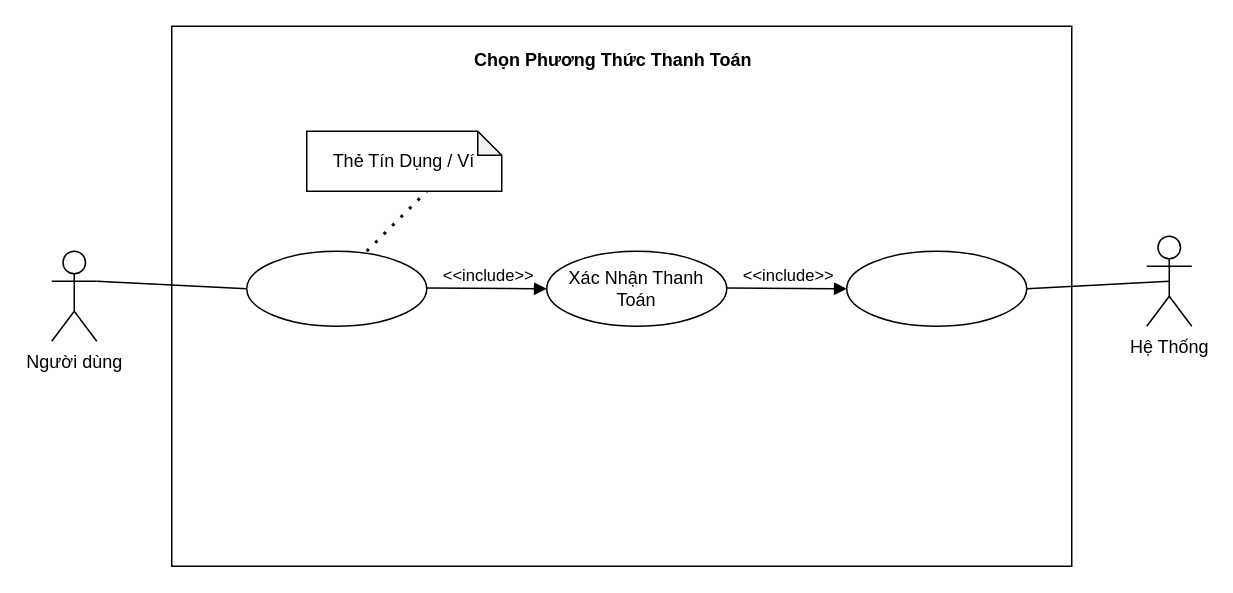
Image size: 1233x593. Some labels were removed from this diagram. The shapes that lost their labels are listed below. From the top down, each one's centre as x and y in pixels, then its label:
the point at 336,288: management Phương thức
the point at 936,288: Hiển Thị Thông Báo
